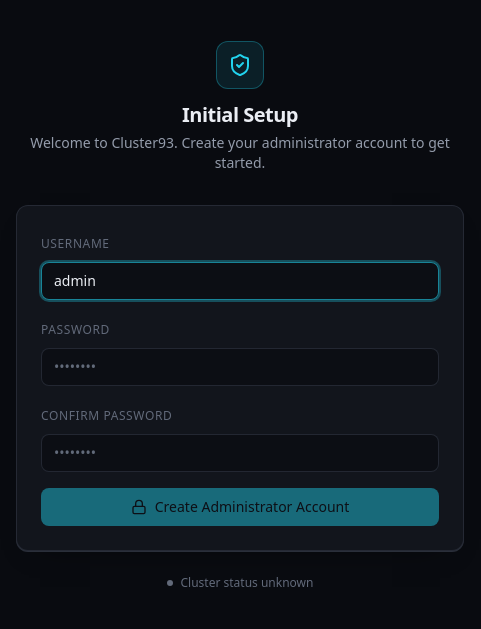
Scenario: LoginView › rejects mismatched passwords on the setup form
Check: the password field labelled "Confirm Password" is shown, box [41,434,439,472]
Step 1. Type "s3cret" into the password field labelled "Password" → (240, 367), box [41,348,439,386]
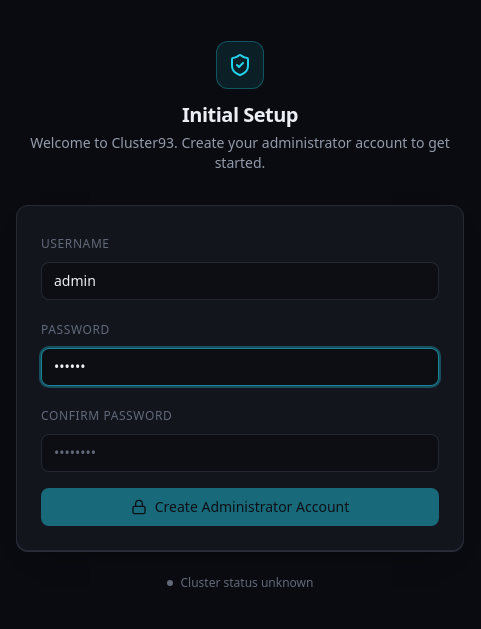
Step 2. Type "different" into the password field labelled "Confirm Password" → (240, 453), box [41,434,439,472]
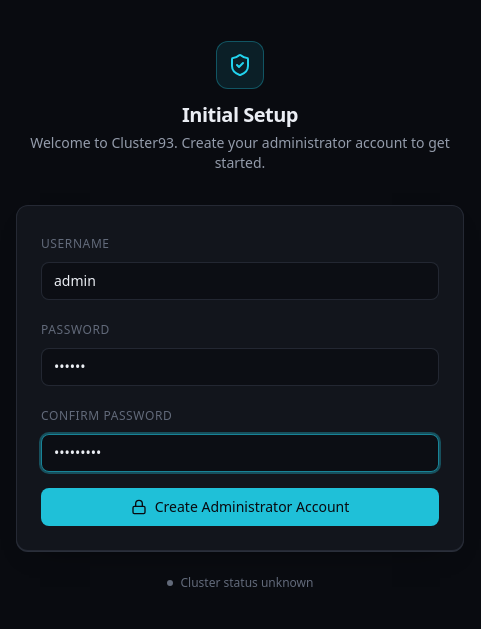
Step 3. Click the button "Create Administrator Account" → click(240, 507), box [41,488,439,526]
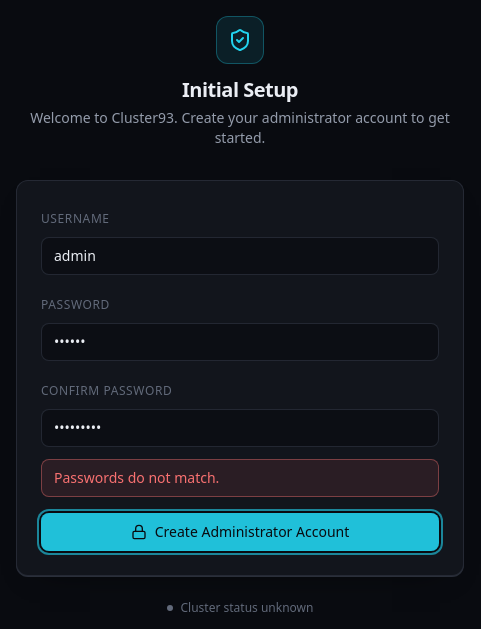
Check: the message shows "Passwords do not match", box [54,468,219,487]
